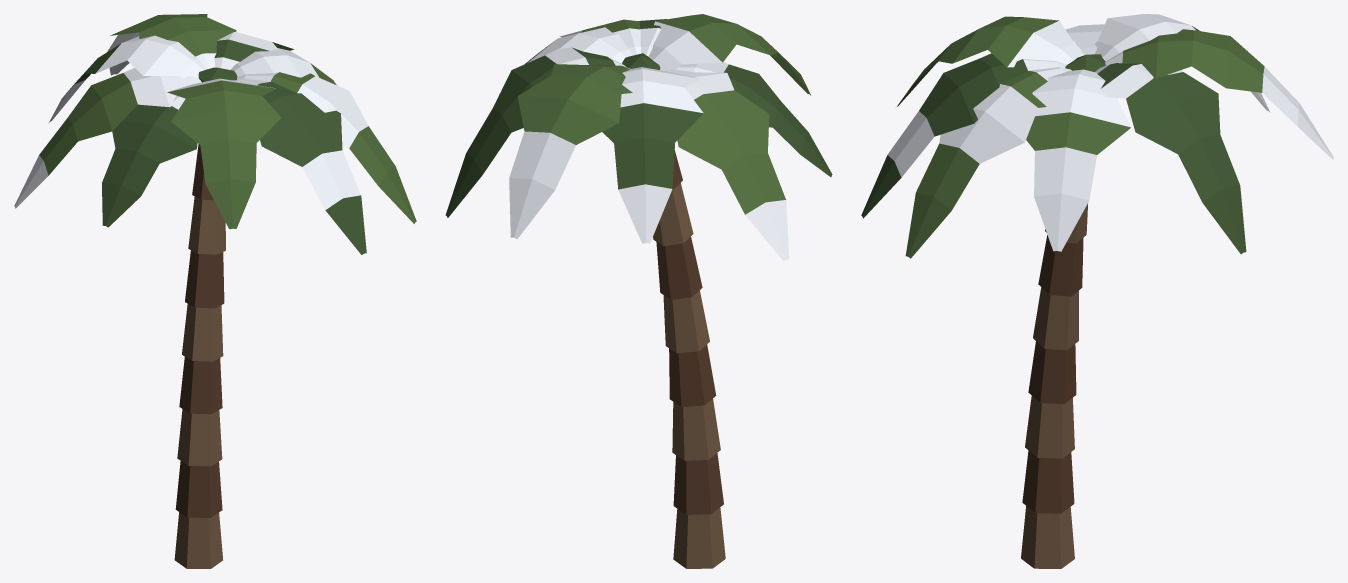
File: palm-1.glb
The picture shows the model from 3 angles, left to right: view 1: azimuth 30°, elevation 25°; view 2: azimuth 150°, elevation 25°; view 3: azimuth 270°, elevation 25°; orthographic projection. The views are drawn at different scales.
Visible parts, largest first — view 1: palm-1; view 2: palm-1; view 3: palm-1.
Part boxes in pixels (x1,y1,x2,y2): palm-1: (14,14,416,568); palm-1: (445,14,832,568); palm-1: (861,14,1333,568).
Bounding box in the file's own units: 4.07 × 5.92 × 4.69.
